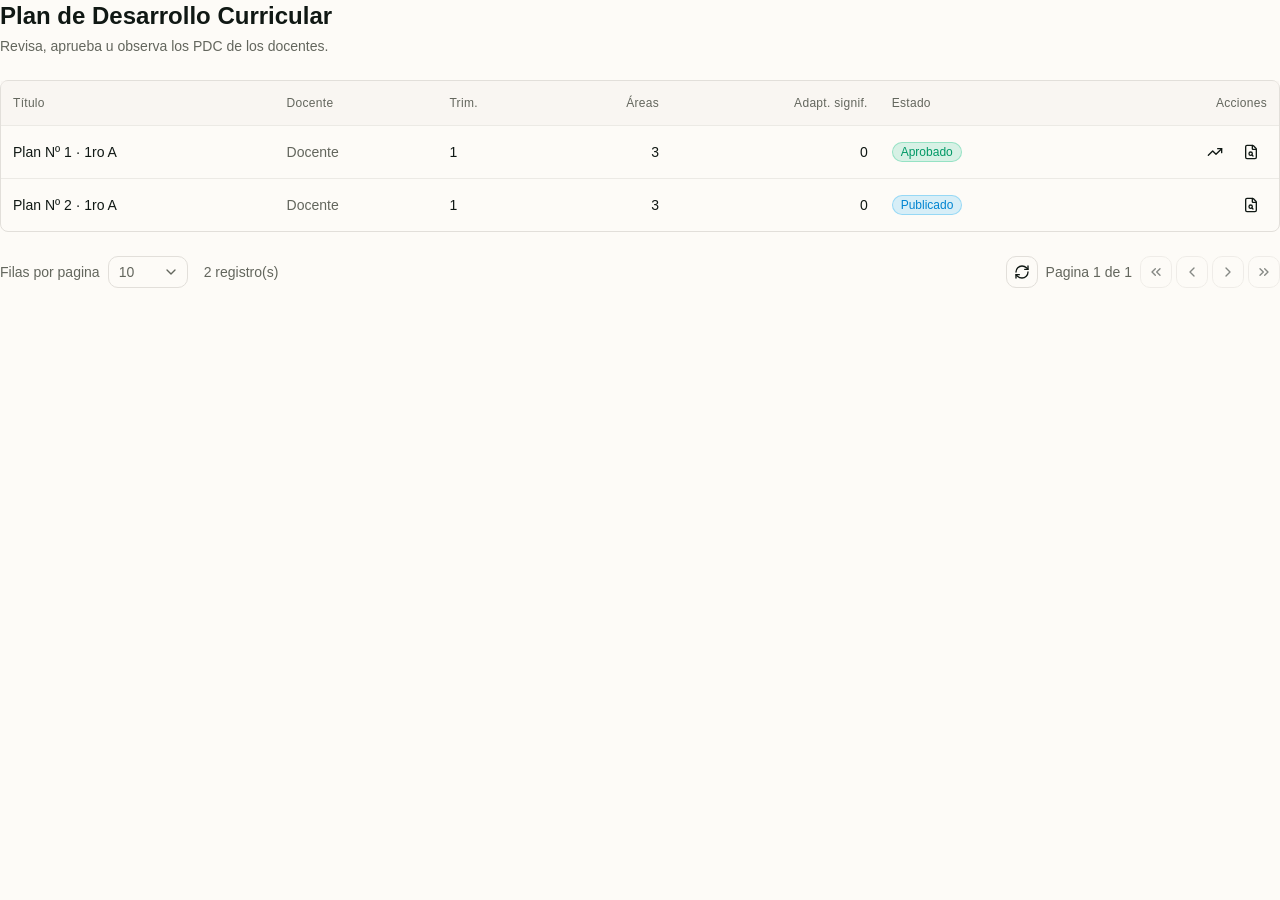
Test case: PDC listing — progress › lets the Director read the progress of an approved plan, without the form
This screenshot has width=1280, height=900.
Step 1. Click the button named "Ver avances" → (1215, 152), box [1199,136,1231,168]
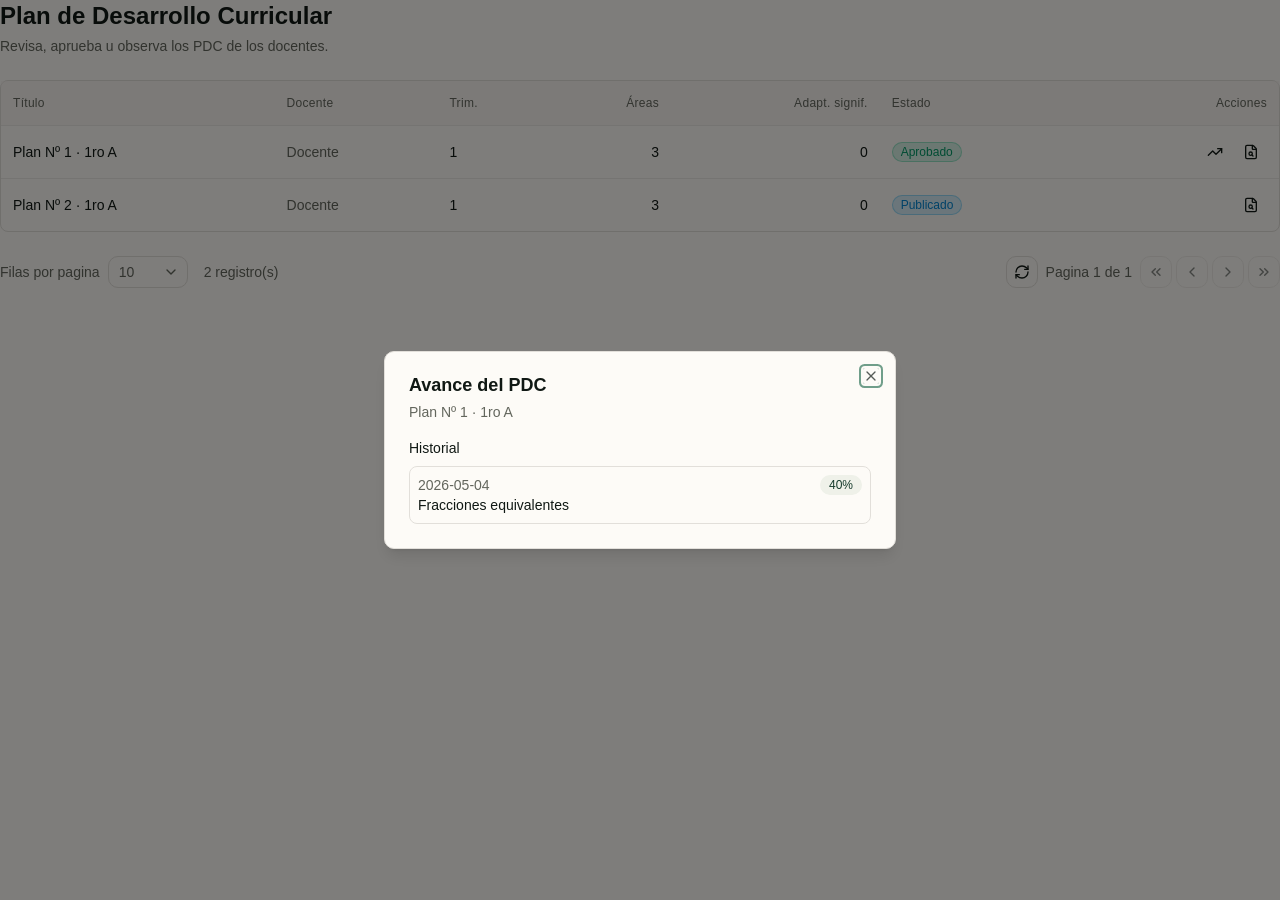
Expected: the text "Fracciones equivalentes" is shown, [418,497,569,513]
